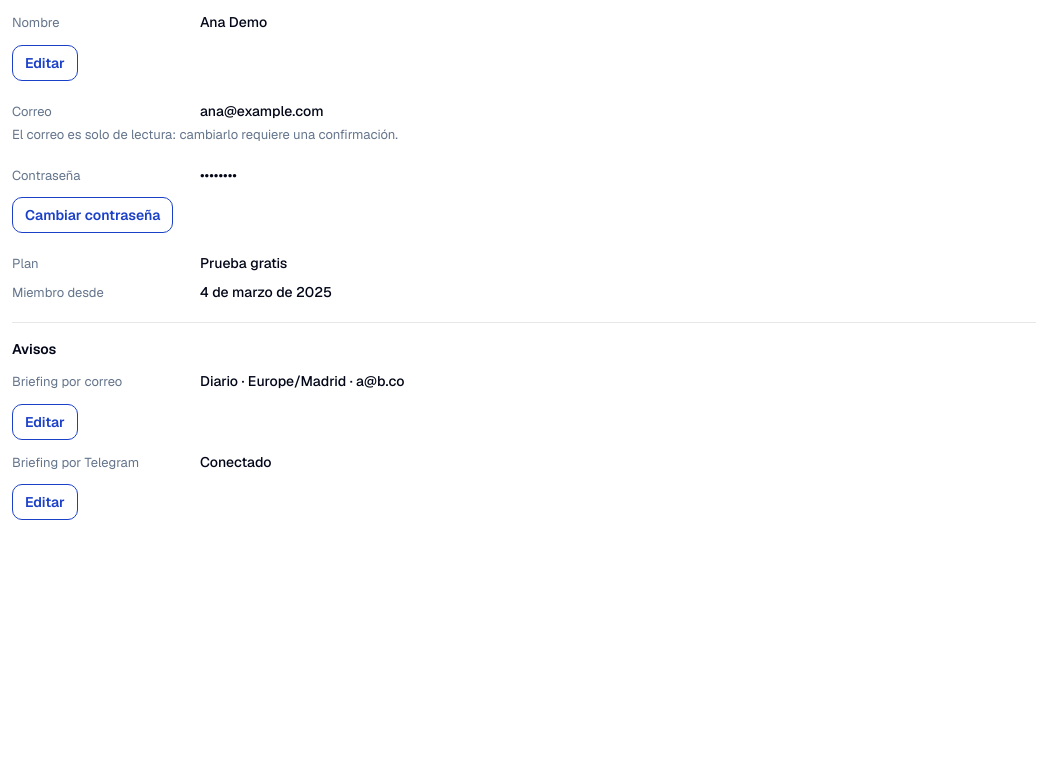
Test case: Mi cuenta › validates the password (min 8, match) and keeps typed values
Click the button "Cambiar contraseña".
click(93, 215)  # box [12,197,173,233]
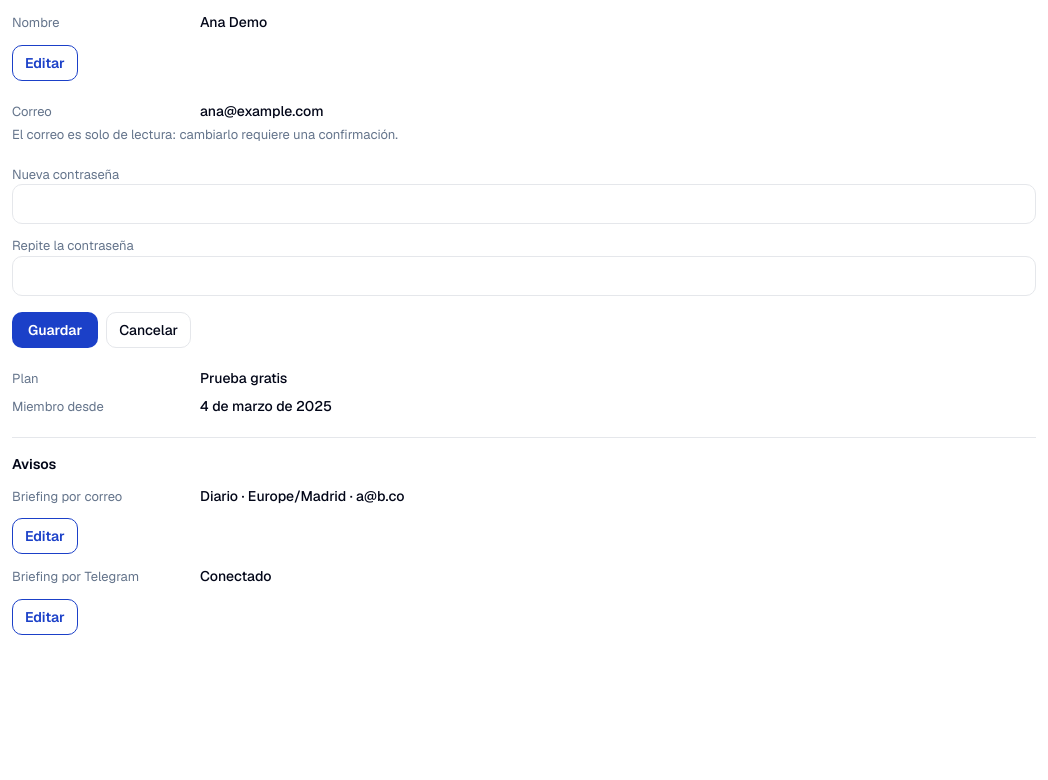
Type "short" into the password field labelled "Nueva contraseña".
click(524, 204); type("short")  # box [12,184,1036,224]
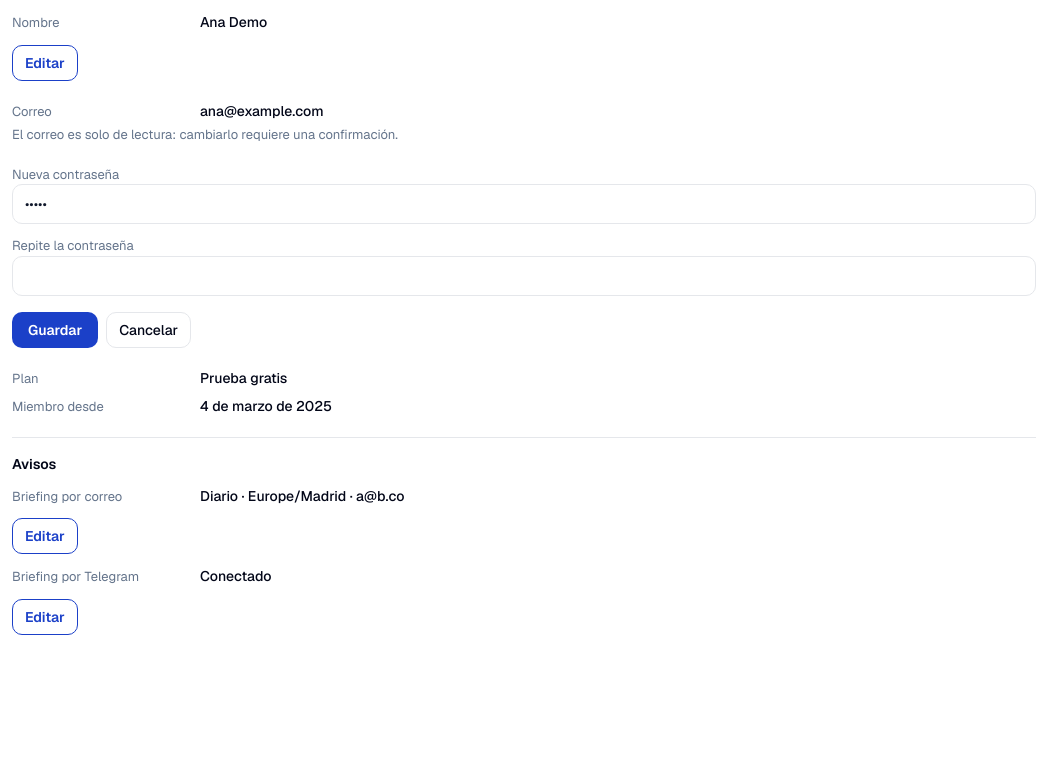
Type "short" into the password field labelled "Repite la contraseña".
click(524, 276); type("short")  # box [12,256,1036,296]
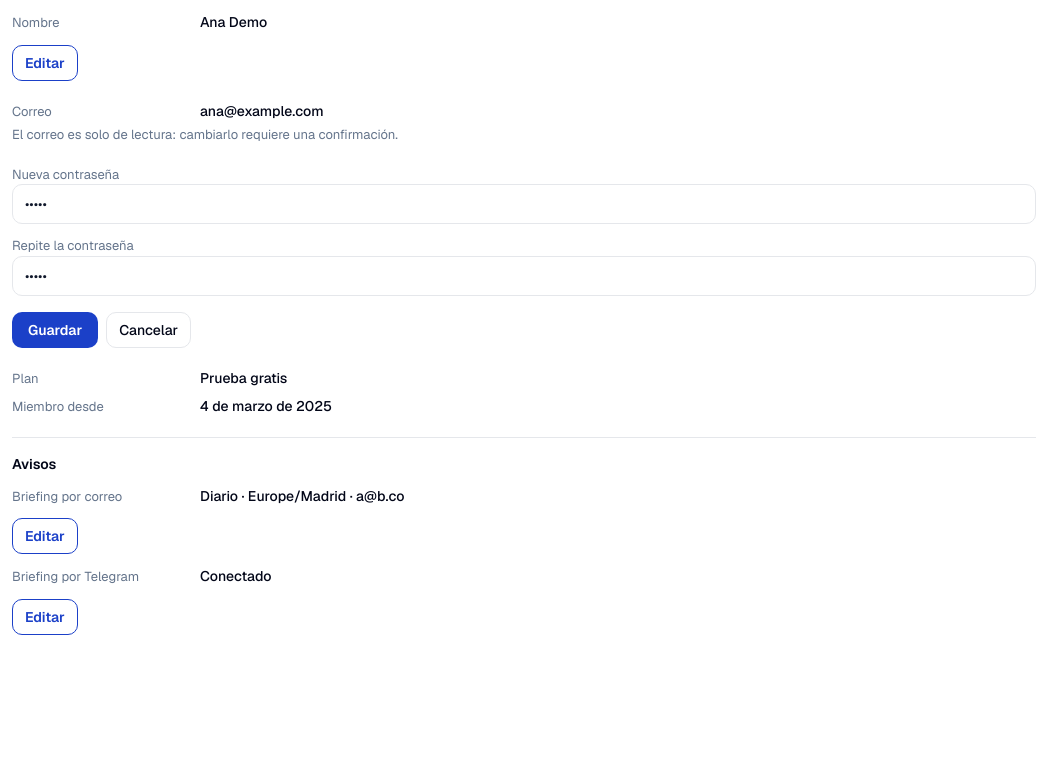
Click the button "Guardar".
click(55, 330)  # box [12,312,98,348]
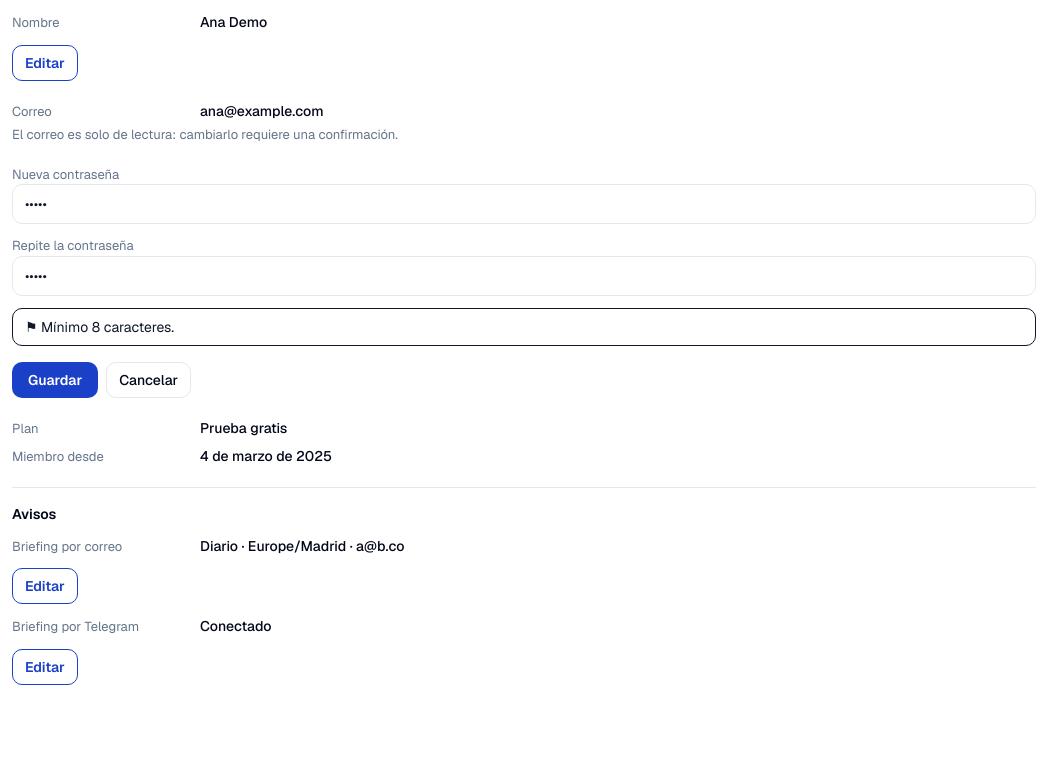
Check: the text "⚑ Mínimo 8 caracteres." is shown, box [12,308,1036,346]
Type "longenough1" into the password field labelled "Nueva contraseña".
click(524, 204); type("longenough1")  # box [12,184,1036,224]
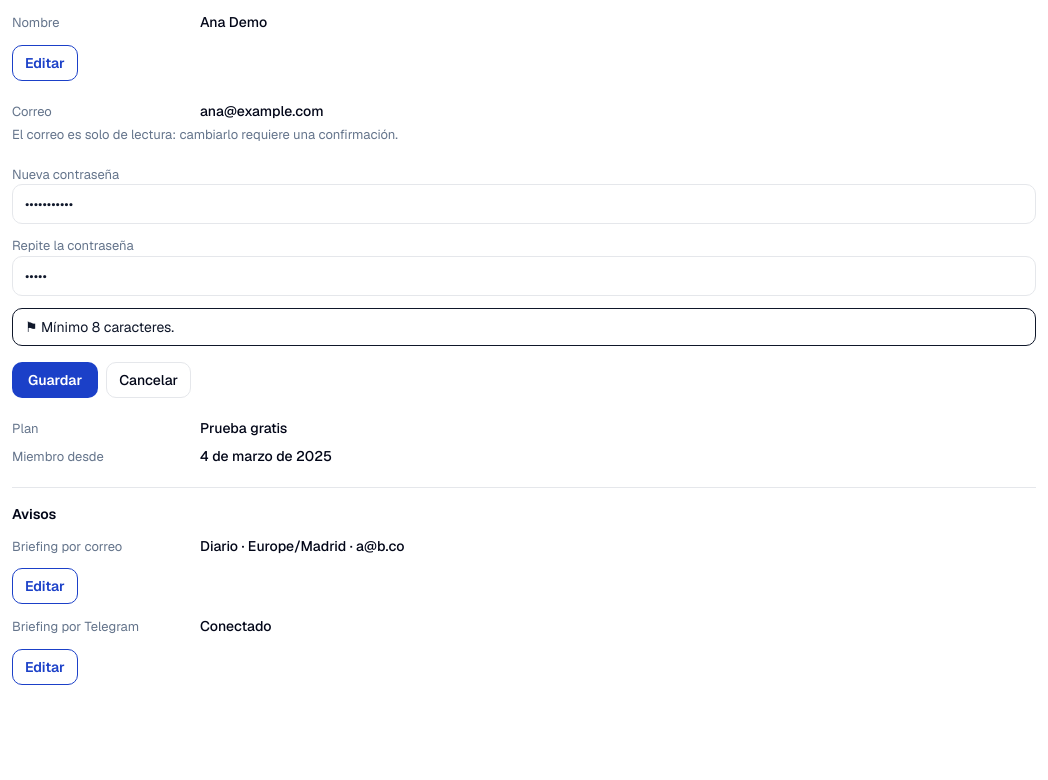
Click the button "Guardar".
click(55, 380)  # box [12,362,98,398]
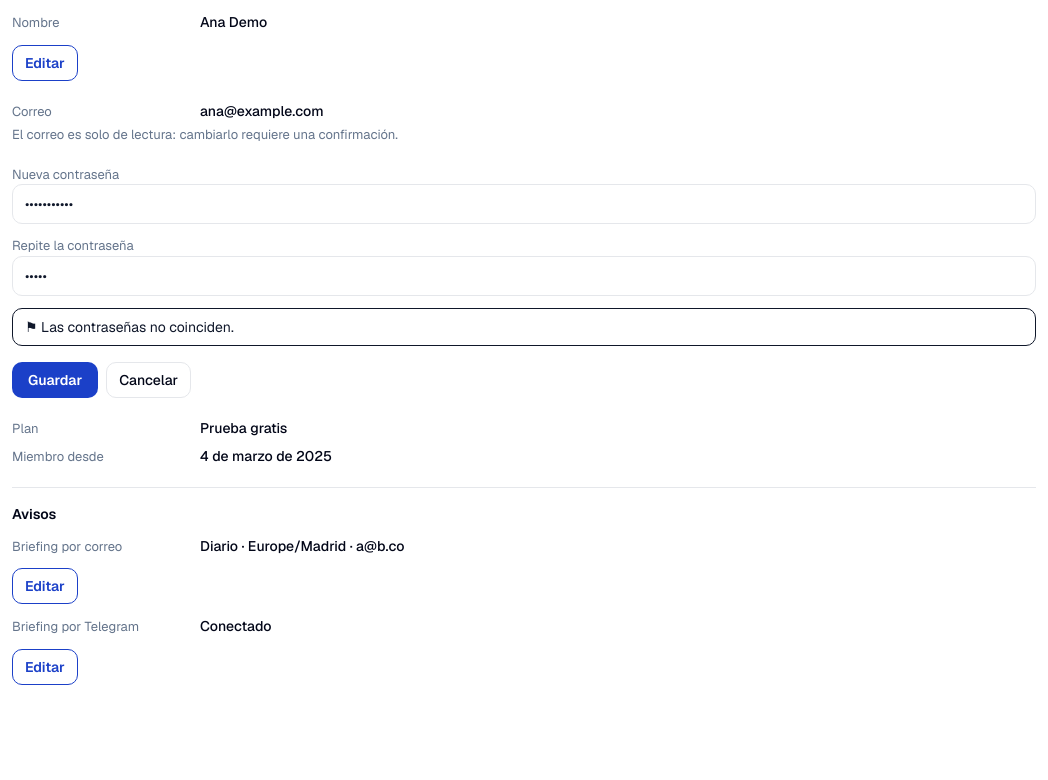
Check: the text "⚑ Las contraseñas no coinciden." is shown, box [12,308,1036,346]
